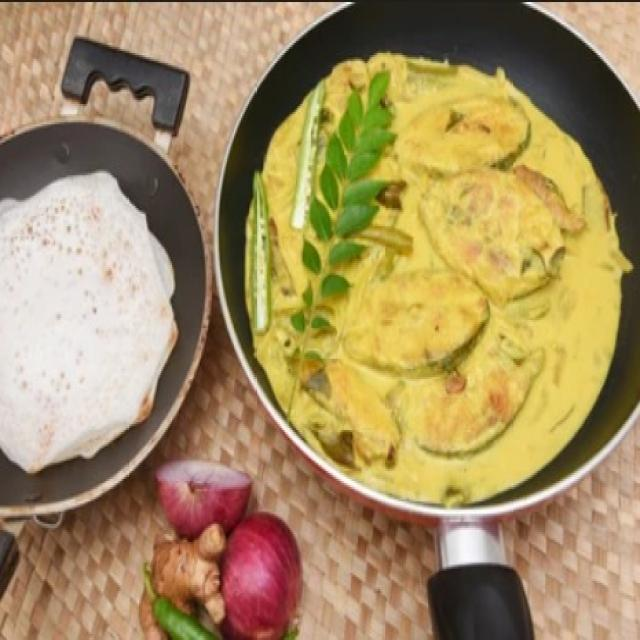AAPAM: (1, 168, 188, 475)
FISH CURRY: (244, 53, 639, 512)
